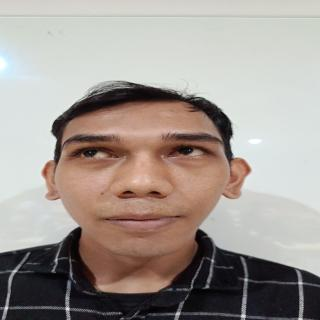Takut: (57, 101, 217, 264)
